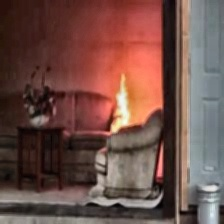fire: (109, 65, 147, 133)
